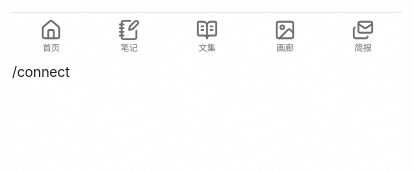
Test case: BottomTabBar › keeps the 笔记 destination with the shared notebook-pen icon
The width and height of the screenshot is (414, 172).
Click the button "笔记" at (129, 37), box [90, 13, 168, 61]
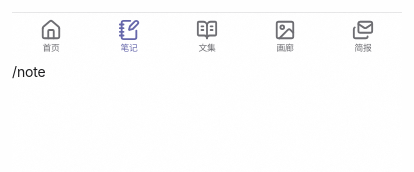
Check: the text with test id "current-path" reads "/note", box [12, 63, 46, 80]
